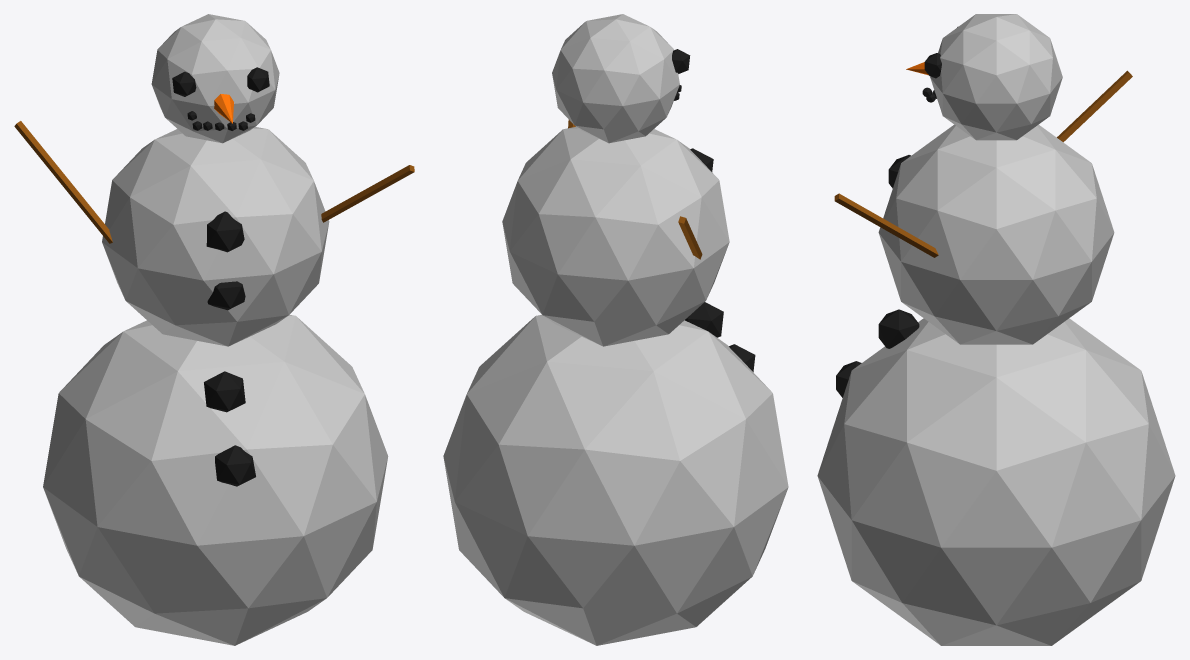
File: balwan.fbx
3 renders of one model, left to right at view 1: azimuth 30°, elevation 25°; view 2: azimuth 150°, elevation 25°; view 3: azimuth 270°, elevation 25°, orthographic.
Visible parts, largest first — view 1: Icosphere.002, Icosphere.006, Cube.001; view 2: Icosphere.002, Icosphere.006; view 3: Icosphere.002, Icosphere.006, Cube.001.
Boxes of the visible parts, x1=… form: Icosphere.002: x1=43, y1=14, x2=388, y2=645; Icosphere.006: x1=172, y1=67, x2=269, y2=486; Cube.001: x1=14, y1=121, x2=414, y2=243; Icosphere.002: x1=443, y1=14, x2=788, y2=645; Icosphere.006: x1=672, y1=49, x2=755, y2=371; Icosphere.002: x1=817, y1=14, x2=1175, y2=645; Icosphere.006: x1=836, y1=27, x2=957, y2=397; Cube.001: x1=834, y1=70, x2=1132, y2=257.
Size of the model in its own units: 57.11 by 115 by 60.05.
